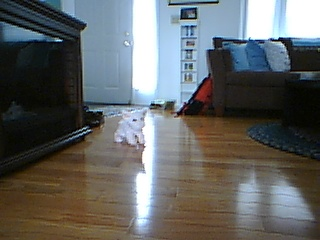piggy: (113, 106, 149, 148)
